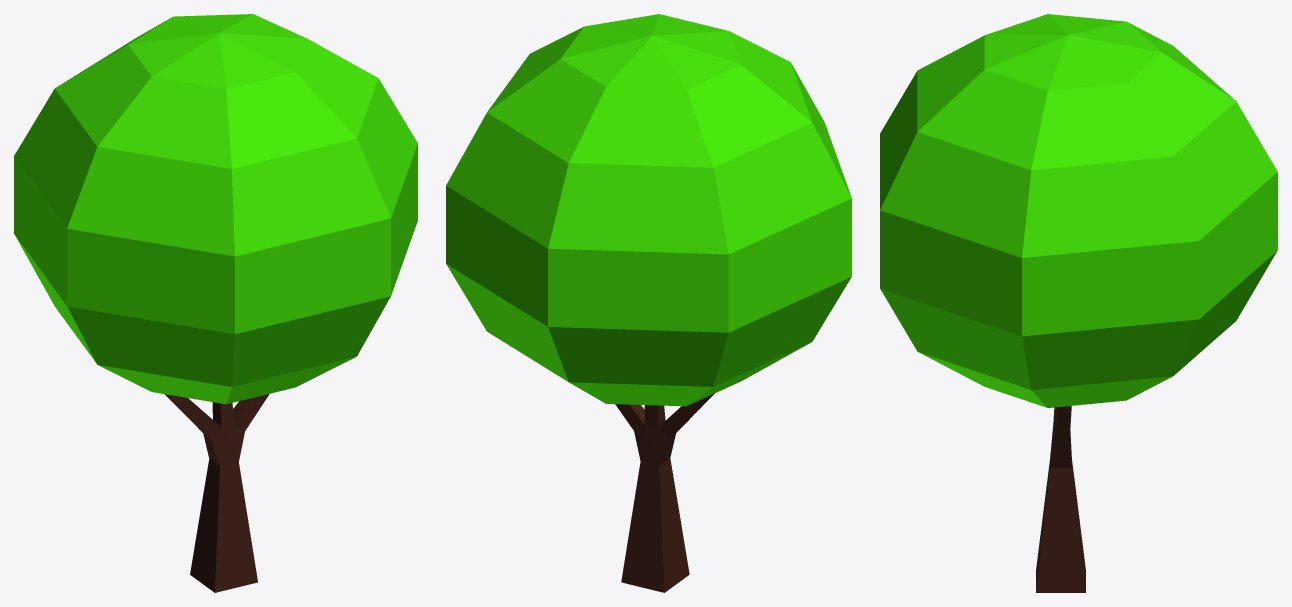
Rendered from LowPolyTree.fbx.
The picture shows the model from 3 angles, left to right: view 1: azimuth 30°, elevation 25°; view 2: azimuth 150°, elevation 25°; view 3: azimuth 270°, elevation 25°; orthographic projection.
Visible parts, largest first — view 1: round tree; view 2: round tree; view 3: round tree.
Part boxes in pixels (left/top/right/bottom): round tree: left=14, top=14, right=417, bottom=592; round tree: left=446, top=14, right=851, bottom=592; round tree: left=880, top=14, right=1277, bottom=592.
Bounding box in the file's own units: 4.55 × 6.74 × 4.44.
